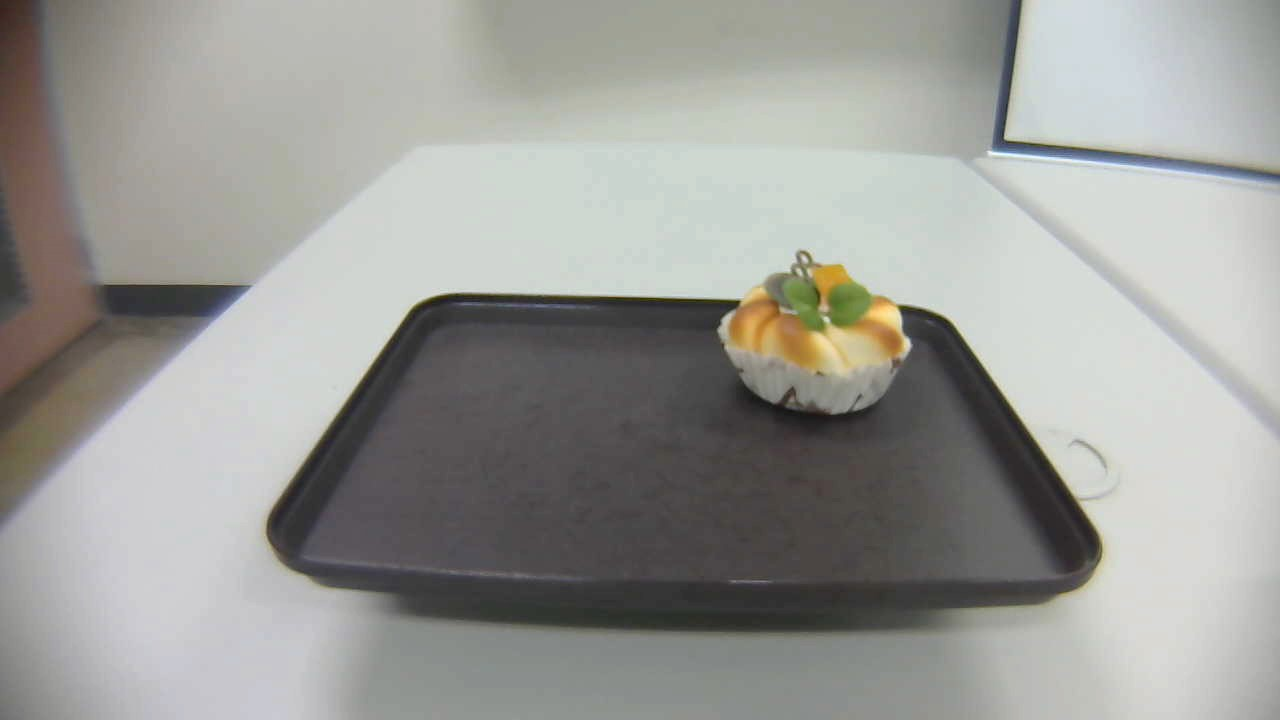fruit tart: (718, 248, 914, 417)
